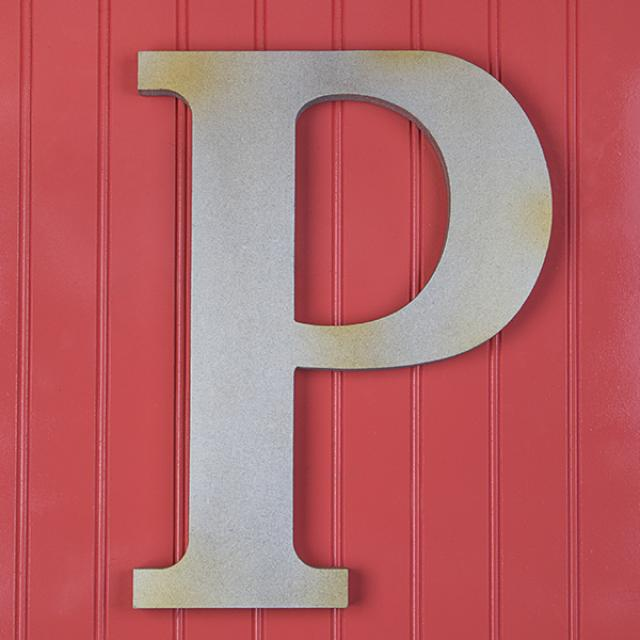P: (70, 31, 577, 618)
